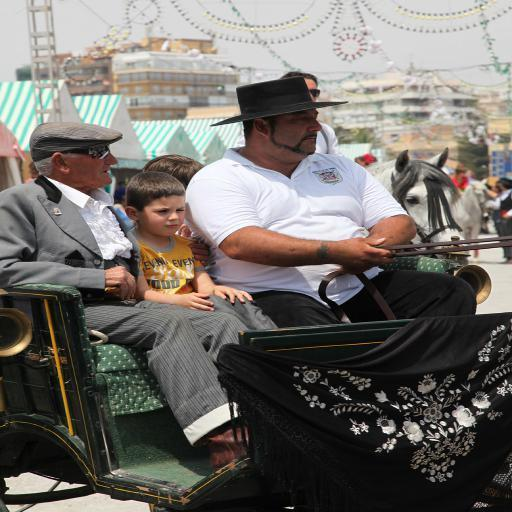horse: (363, 146, 465, 261)
